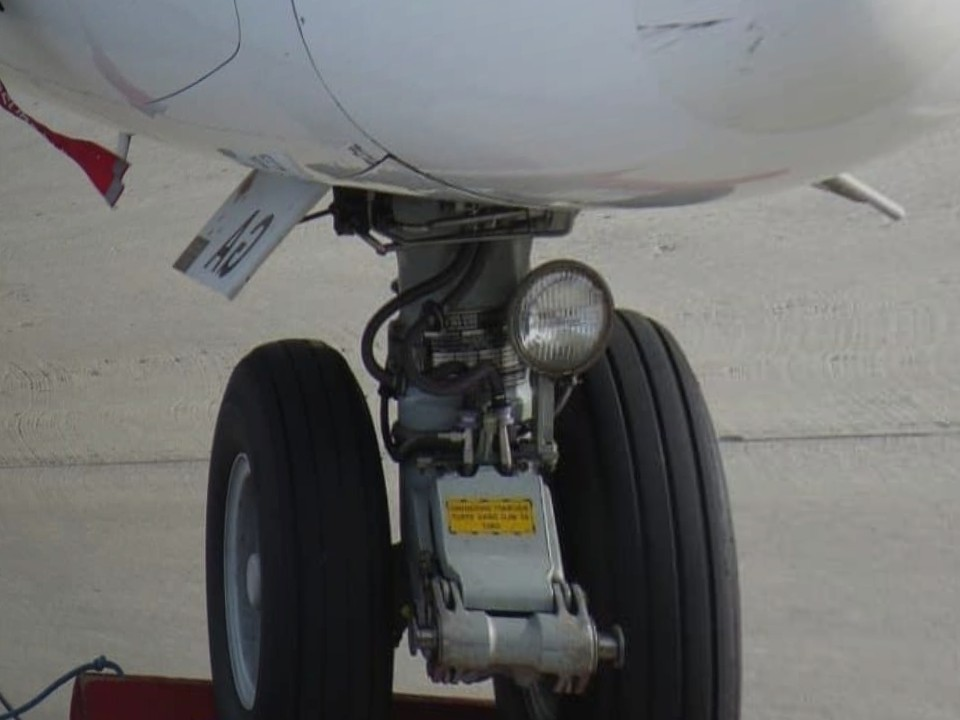chock: (67, 640, 562, 720)
wheel: (500, 293, 748, 720), (204, 330, 398, 720)
